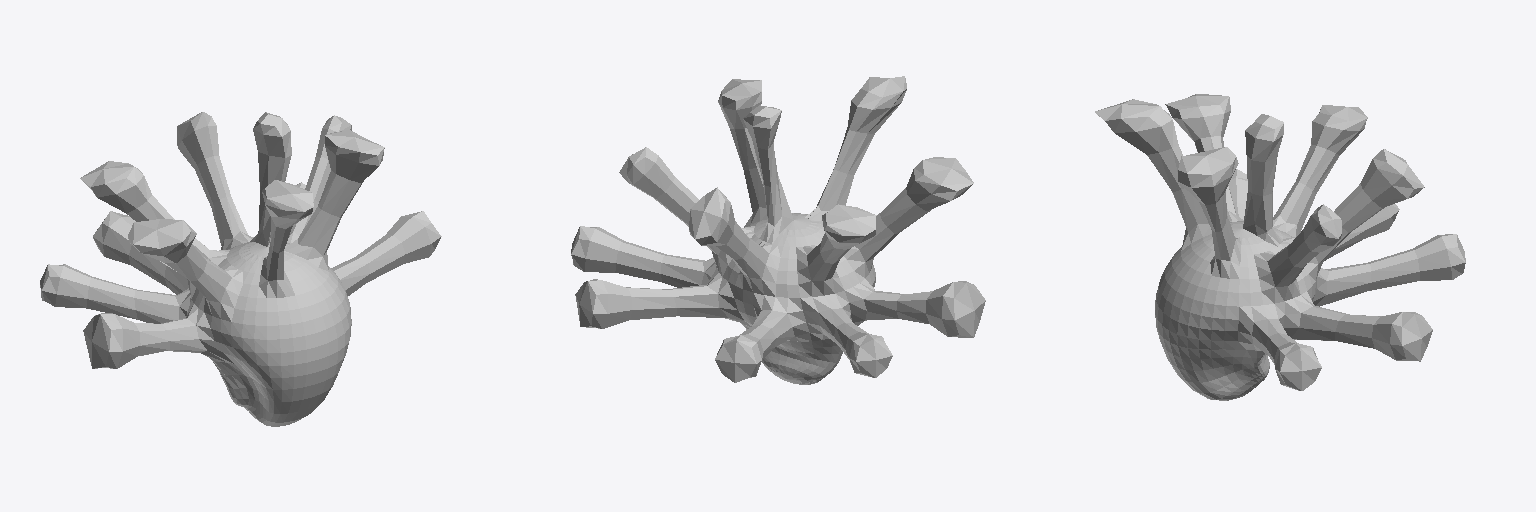
Rendered from head.obj.
The picture shows the model from 3 angles: view 1: azimuth 30°, elevation 25°; view 2: azimuth 150°, elevation 25°; view 3: azimuth 270°, elevation 25°; orthographic projection.
Parts seen in each view (by area): view 1: Sphere006; view 2: Sphere006; view 3: Sphere006.
Boxes of the visible parts, x1,y1,x2,y2 form: Sphere006: [40, 112, 441, 426]; Sphere006: [571, 76, 985, 384]; Sphere006: [1095, 94, 1465, 400].
Size of the model in its own units: 16.85 by 12.47 by 14.62.